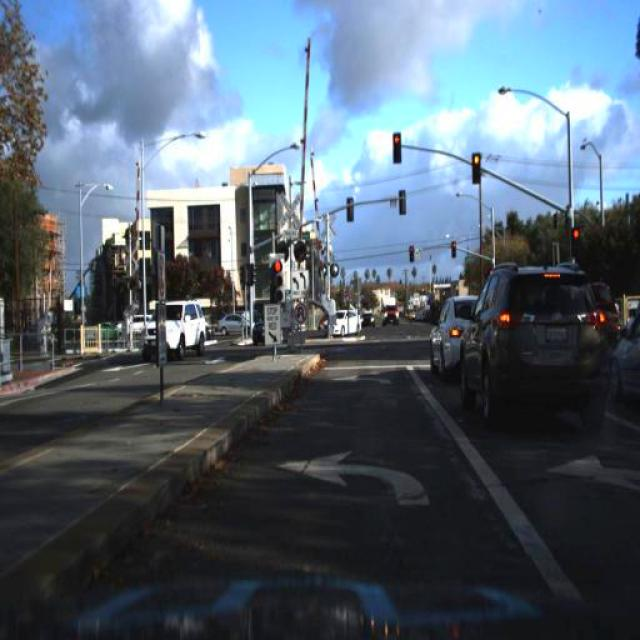semaforo: (471, 152, 482, 185), (570, 226, 581, 258), (392, 132, 402, 164)
